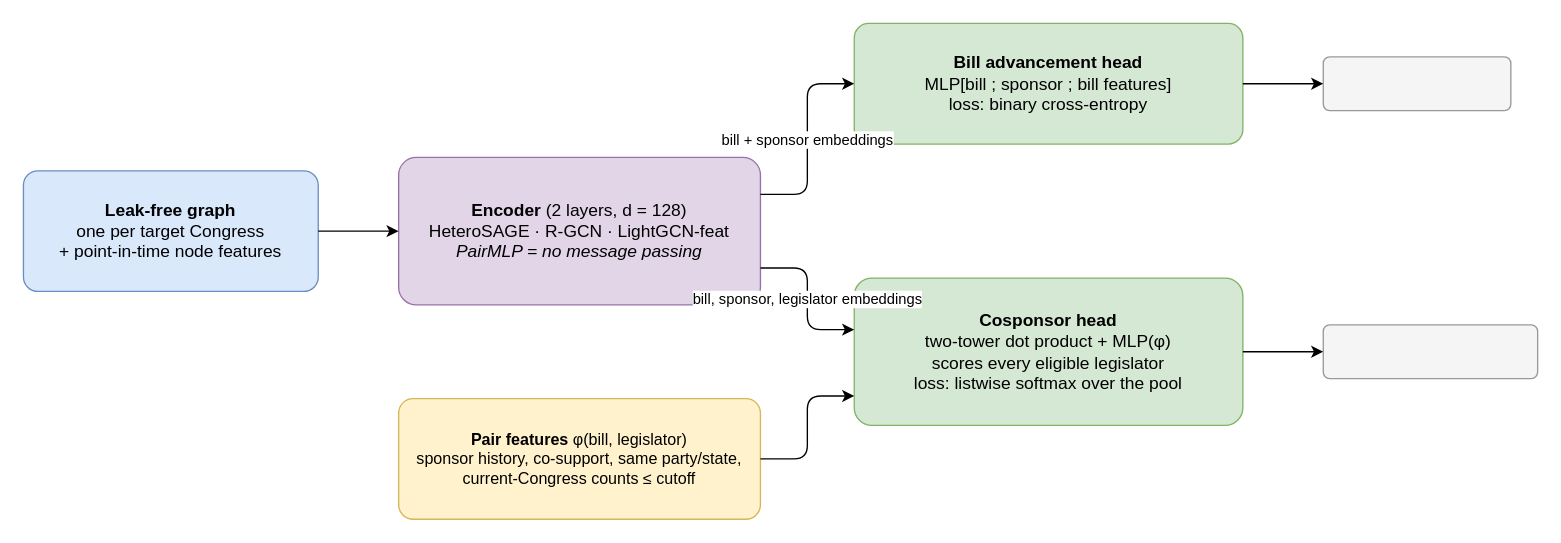
This 1561x543 diagram has some shape labels left out. The shapes that lost their labels are listed below. From the top down, each one's centre as x and y in pixels, then its label:
the point at 1416,83: AUROC · AP
the point at 1430,351: Recall@20 · NDCG@20
